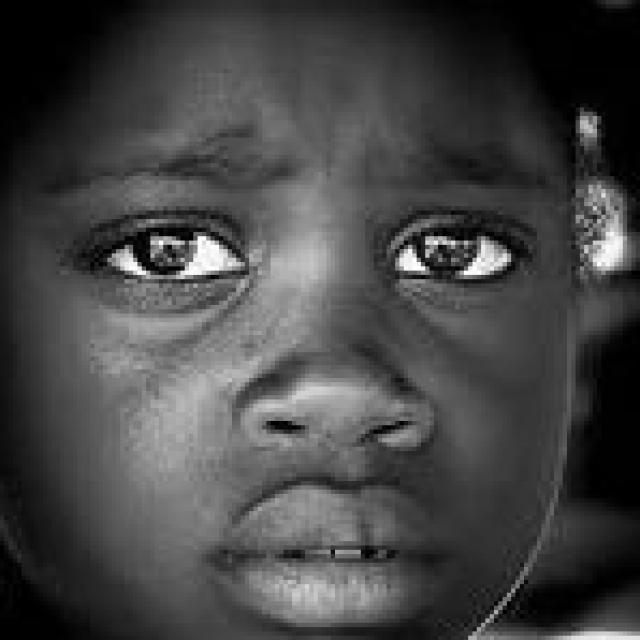Depress: (4, 0, 576, 636)
